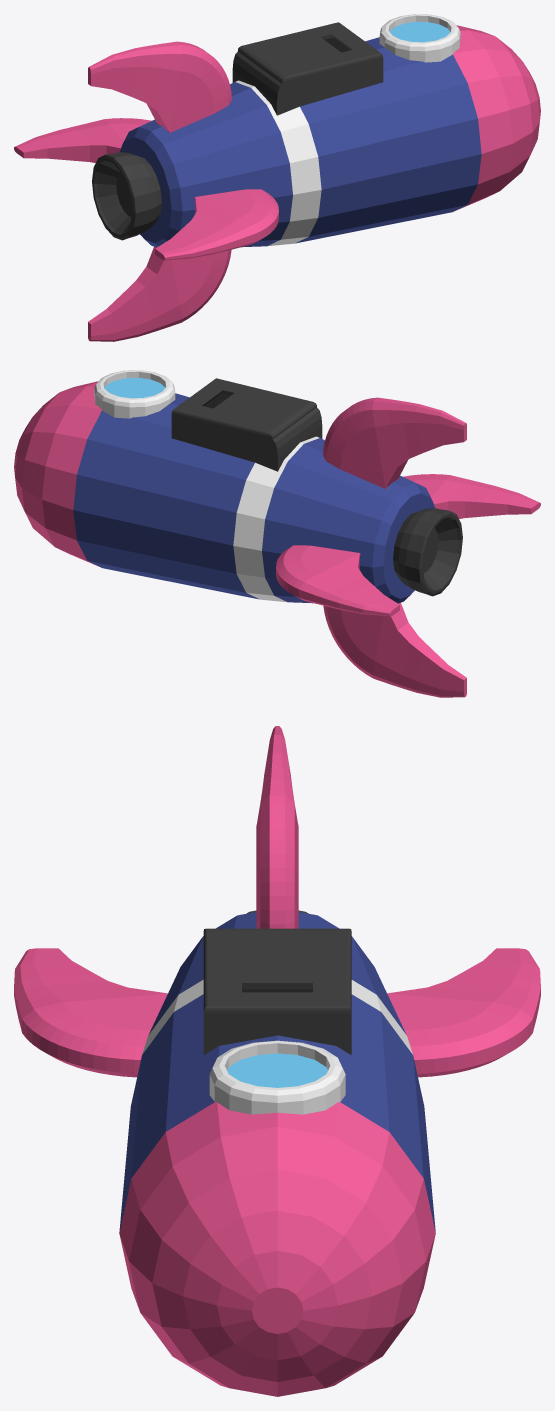
Rendered from Rocket.gltf.
3 views of the same model, one above another, from view 1: azimuth 30°, elevation 25°; view 2: azimuth 150°, elevation 25°; view 3: azimuth 270°, elevation 25° (orthographic). The views are drawn at different scales.
Visible parts, largest first — view 1: Rocket, VaultDoor; view 2: Rocket, VaultDoor; view 3: Rocket, VaultDoor.
Part boxes in pixels (box(x1,y1,x2,y2)): Rocket: box(14, 14, 540, 341); VaultDoor: box(238, 22, 383, 83); Rocket: box(14, 370, 540, 697); VaultDoor: box(171, 378, 316, 439); Rocket: box(14, 726, 540, 1396); VaultDoor: box(203, 928, 351, 1016).
Bounding box in the file's own units: 2.67 × 1.66 × 1.66.
1 material, 1 textured.
